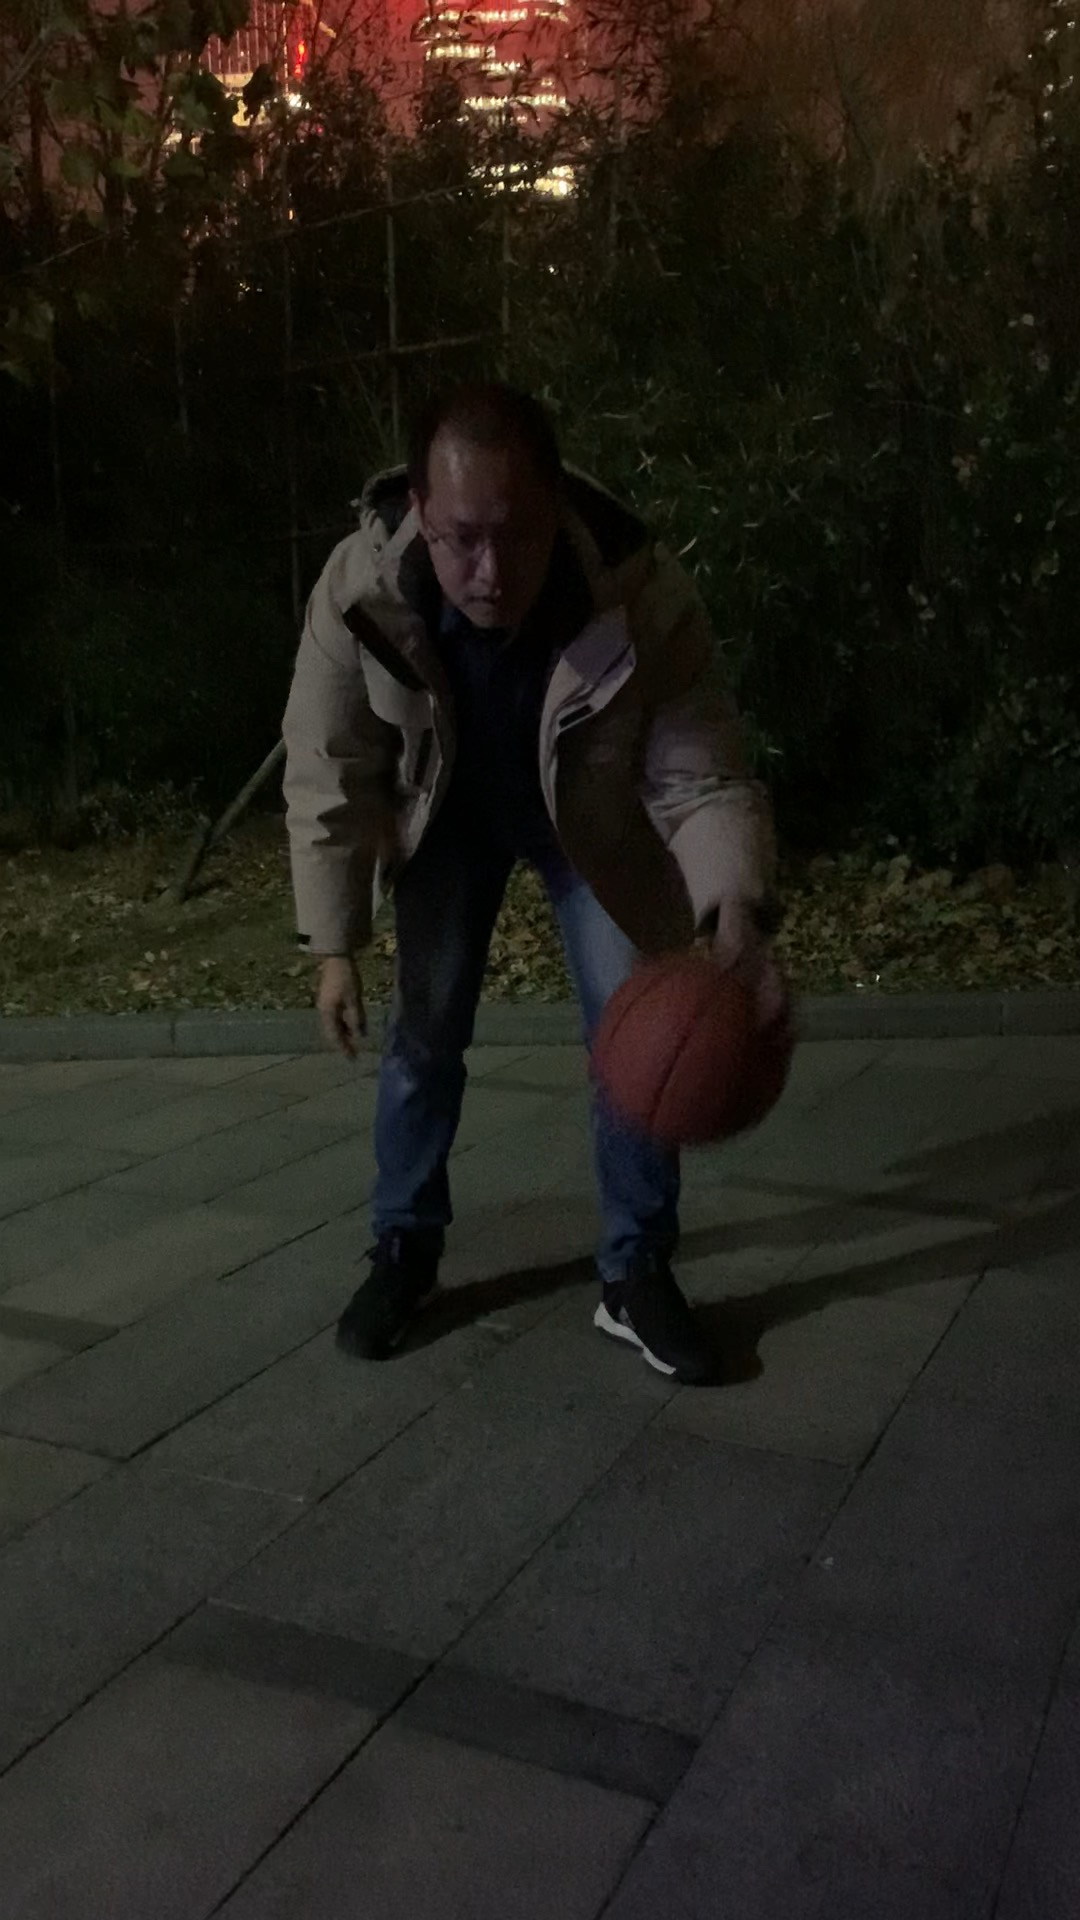ball: (595, 947, 796, 1149)
